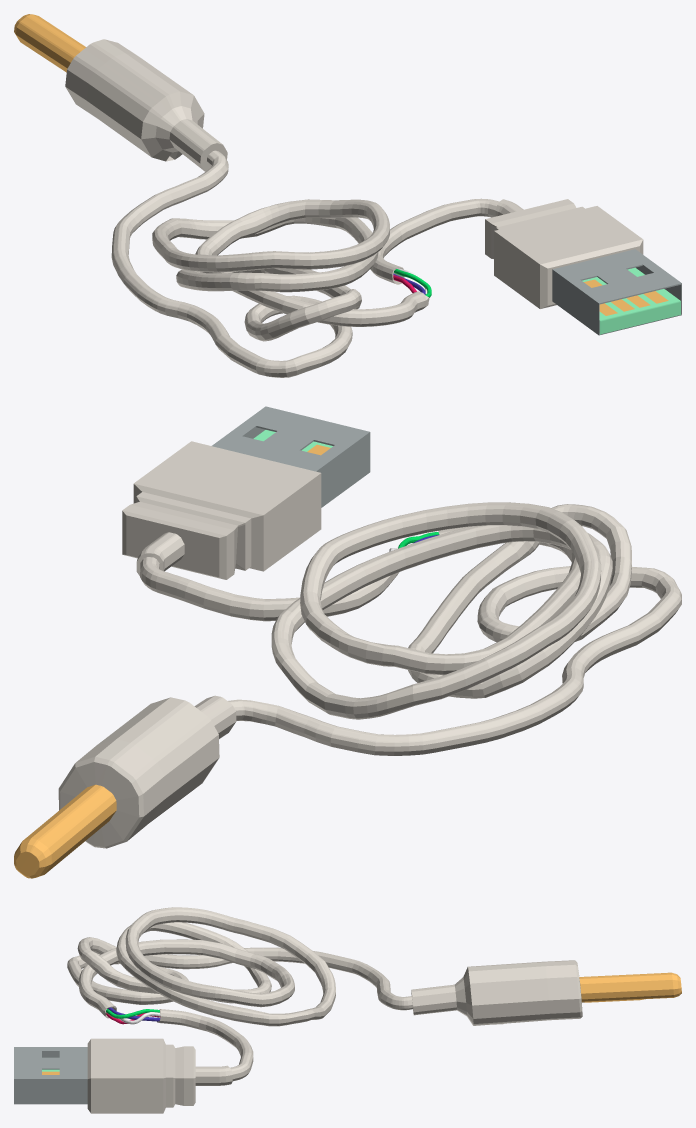
File: usb.gltf
The picture shows the model from 3 angles, top to bottom: view 1: azimuth 30°, elevation 25°; view 2: azimuth 150°, elevation 25°; view 3: azimuth 270°, elevation 25°; orthographic projection. The views are drawn at different scales.
Parts seen in each view (by area): view 1: Cube; view 2: Cube; view 3: Cube.
Part boxes in pixels (x1,y1,x2,y2): Cube: (14,14,681,377); Cube: (14,406,681,878); Cube: (14,907,681,1113).
Size of the model in its own units: 9.95 by 2.1 by 18.22.
